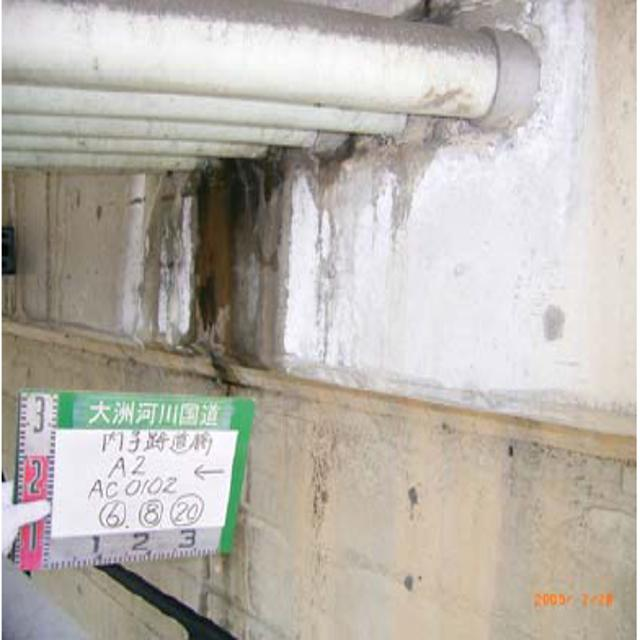leakage: (142, 130, 334, 364)
